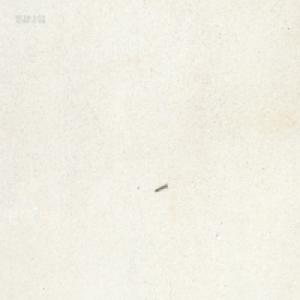Bolt: (153, 183, 167, 193)
